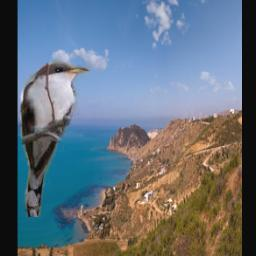Cuckoo: (19, 60, 89, 218)
